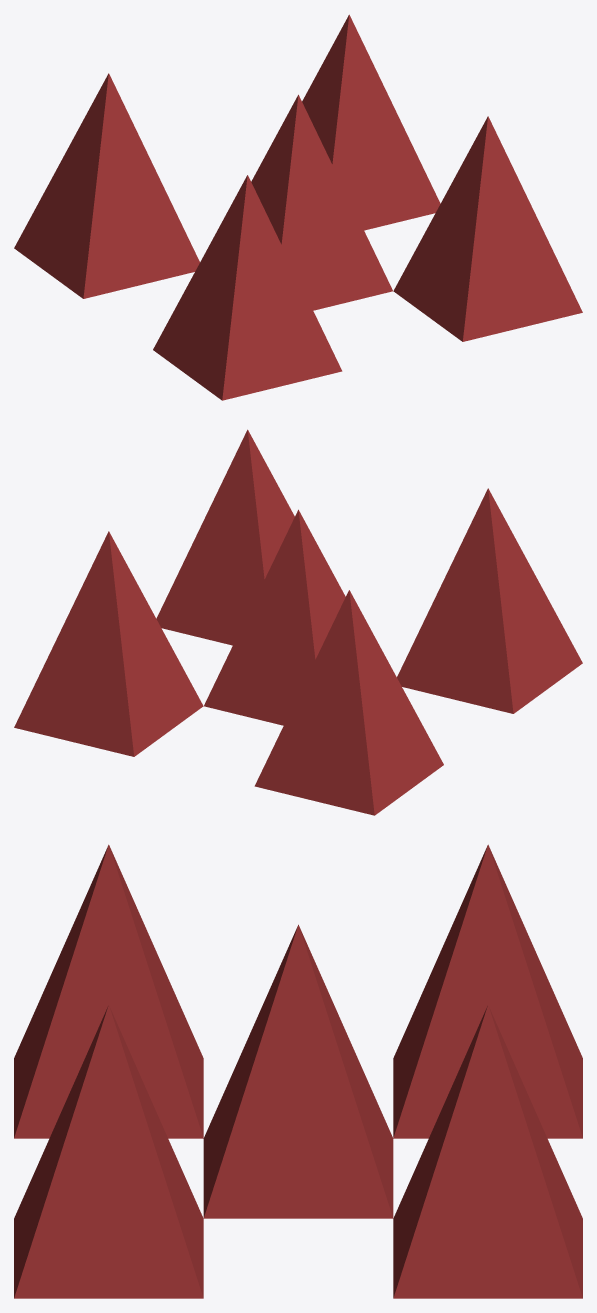
File: shipi.fbx
The picture shows the model from 3 angles, top to bottom: view 1: azimuth 30°, elevation 25°; view 2: azimuth 150°, elevation 25°; view 3: azimuth 270°, elevation 25°; orthographic projection. The views are drawn at different scales.
Visible parts, largest first — view 1: shipi; view 2: shipi; view 3: shipi.
Boxes of the visible parts, x1,y1,x2,y2 form: shipi: (14, 14, 582, 400); shipi: (14, 429, 582, 815); shipi: (14, 844, 582, 1298).
Bounding box in the file's own units: 2.07 × 1.02 × 2.07.
